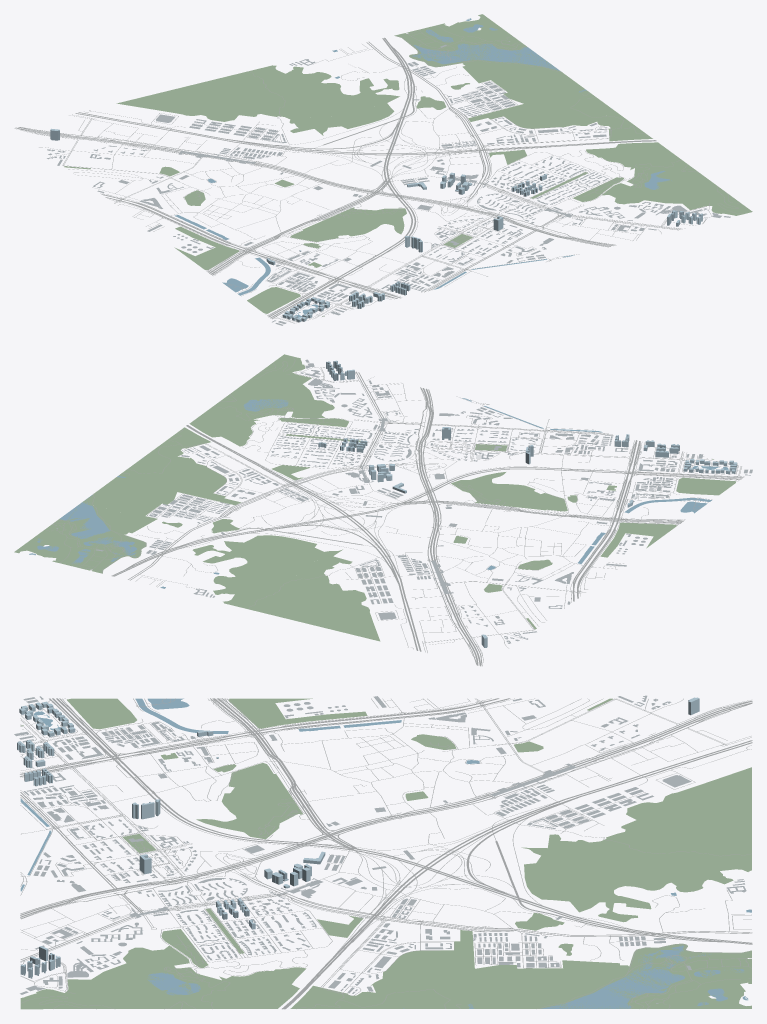
The model's file is overview-known--5_2.glb.
The picture shows the model from 3 angles, top to bottom: view 1: azimuth 30°, elevation 25°; view 2: azimuth 150°, elevation 25°; view 3: azimuth 270°, elevation 25°; orthographic projection. The views are drawn at different scales.
Size of the model in its own units: 4044 by 87.88 by 4021.
